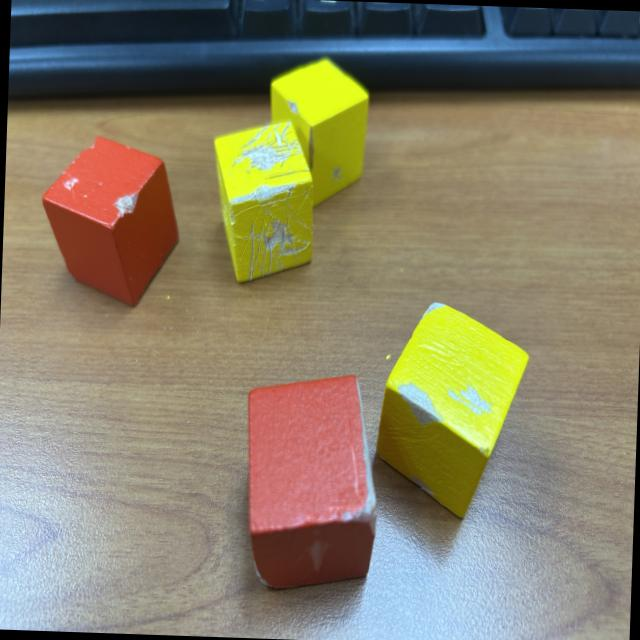broken: (373, 298, 531, 522), (240, 371, 382, 593), (38, 133, 184, 310), (208, 118, 317, 286), (264, 54, 370, 210)
